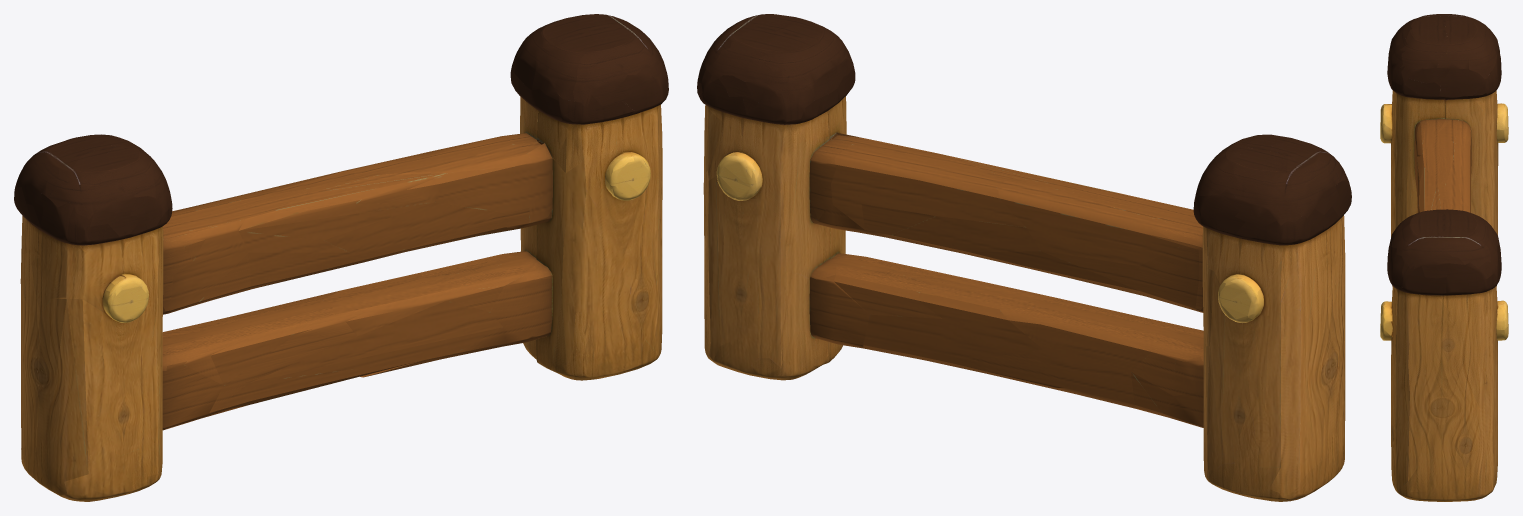
3 renders of one model, left to right at view 1: azimuth 30°, elevation 25°; view 2: azimuth 150°, elevation 25°; view 3: azimuth 270°, elevation 25°, orthographic. The views are drawn at different scales.
Parts seen in each view (by area): view 1: island-fence-v1-1.002; view 2: island-fence-v1-1.002; view 3: island-fence-v1-1.002.
Part boxes in pixels (x1,y1,x2,y2): island-fence-v1-1.002: [14, 14, 668, 501]; island-fence-v1-1.002: [697, 14, 1351, 501]; island-fence-v1-1.002: [1380, 14, 1508, 501].
Size of the model in its own units: 1.69 by 0.85 by 0.3784.
Materials: 1 (1 with a texture image).
